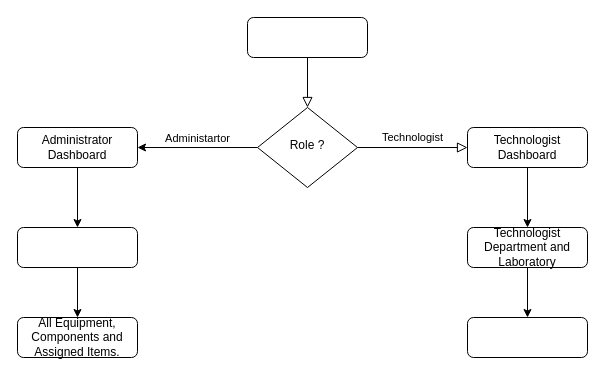
Image size: 605x376. Some labels were removed from this diagram. Each missing label, with the box of its shape:
Administrator Log In: (246, 16, 368, 58)
All Departments and Laboratories: (16, 226, 138, 268)
Equipment, Components and Assigned Items.: (466, 316, 588, 358)
